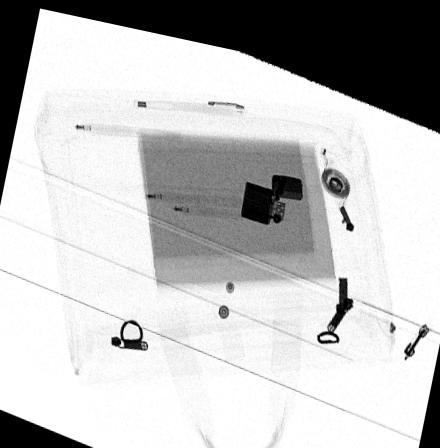Lighter: (239, 162, 303, 214)
